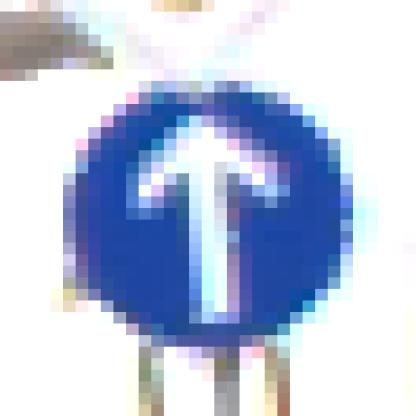AheadOnly: (64, 71, 354, 360)
